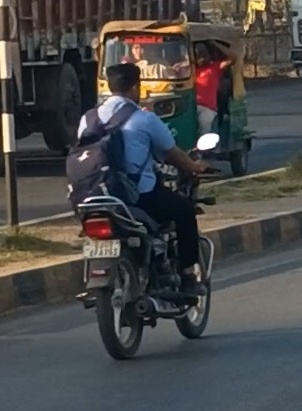BikeWithRider: (61, 62, 224, 364)
NoHelmet: (105, 63, 145, 105)
